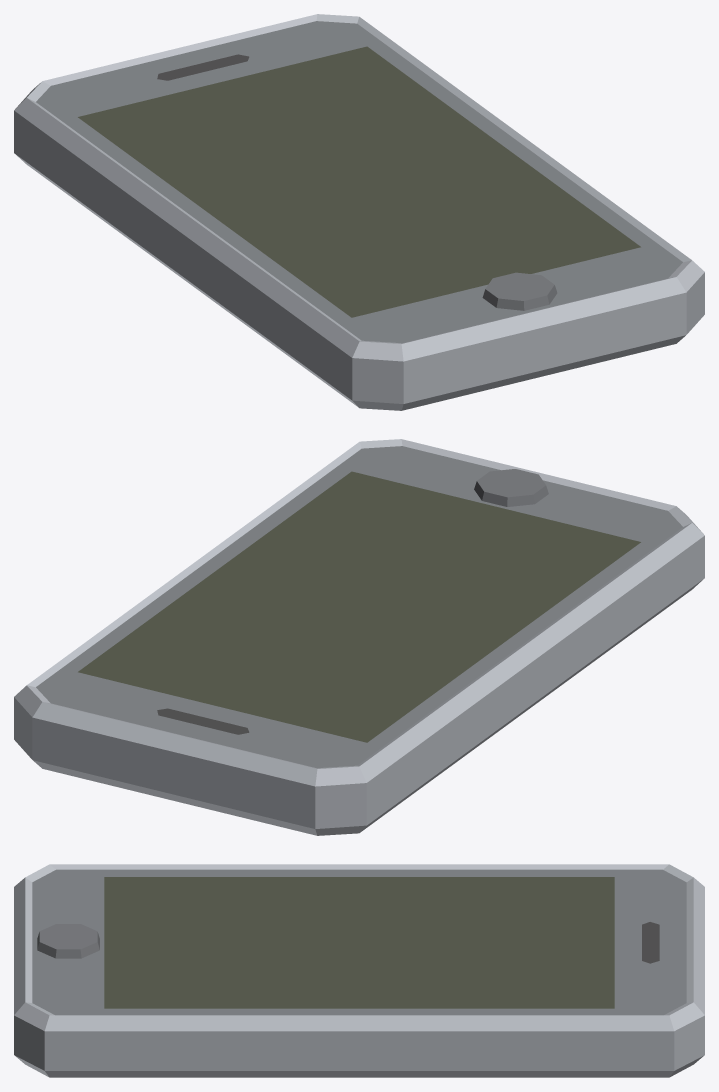
File: SM_Prop_Cellphone_01.obj
3 views of the same model, one above another, from view 1: azimuth 30°, elevation 25°; view 2: azimuth 150°, elevation 25°; view 3: azimuth 270°, elevation 25° (orthographic). The views are drawn at different scales.
Visible parts, largest first — view 1: SM_Prop_Cellphone_01_M_PolygonOffice_01_A; view 2: SM_Prop_Cellphone_01_M_PolygonOffice_01_A; view 3: SM_Prop_Cellphone_01_M_PolygonOffice_01_A.
Boxes of the visible parts, x1,y1,x2,y2 form: SM_Prop_Cellphone_01_M_PolygonOffice_01_A: (14, 14, 704, 410); SM_Prop_Cellphone_01_M_PolygonOffice_01_A: (14, 439, 704, 835); SM_Prop_Cellphone_01_M_PolygonOffice_01_A: (14, 864, 704, 1077).
Size of the model in its own units: 0.1263 by 0.0283 by 0.2302.
Materials: 1 (1 with a texture image).
